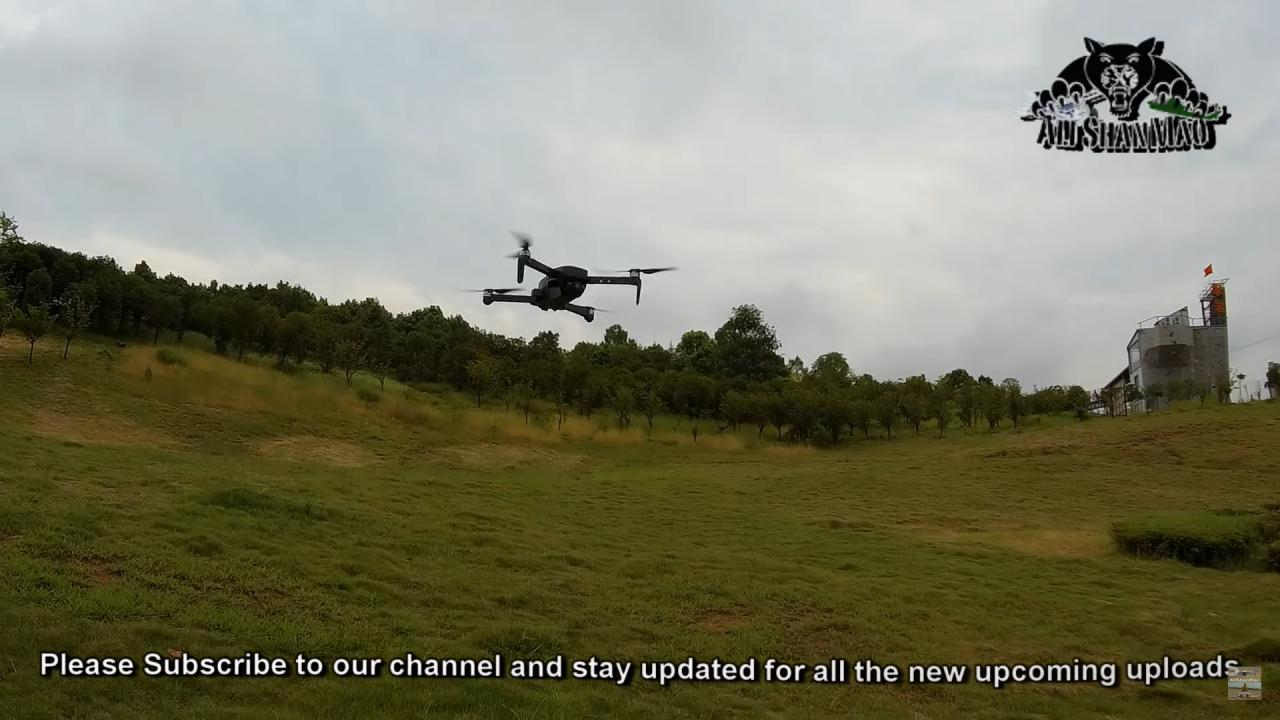Drone: (451, 219, 693, 332)
